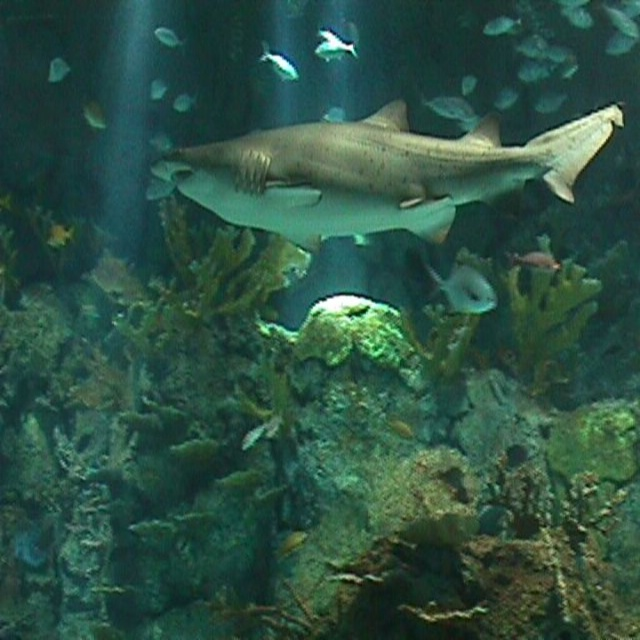Shark: (153, 85, 626, 243)
